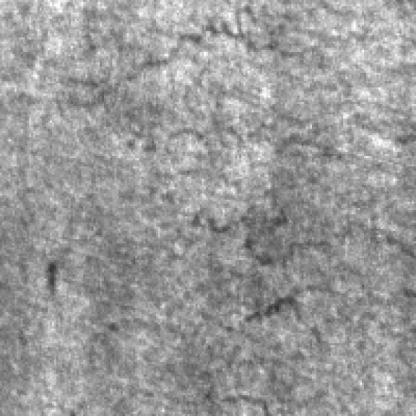crazing: (57, 2, 348, 164), (193, 191, 350, 414)
